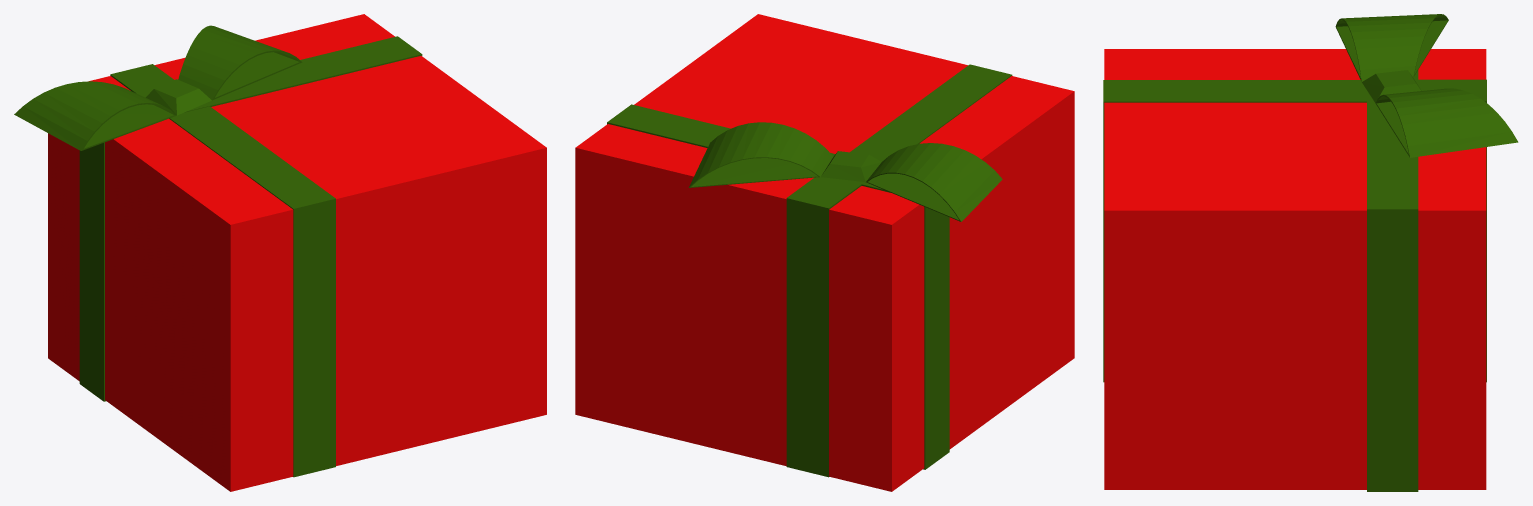
The model's file is Prop_Christmas_Present_Red_02.FBX.
3 views of the same model, side by side, from view 1: azimuth 30°, elevation 25°; view 2: azimuth 150°, elevation 25°; view 3: azimuth 270°, elevation 25° (orthographic). The views are drawn at different scales.
Visible parts, largest first — view 1: Prop_Christmas_Present_Red_02; view 2: Prop_Christmas_Present_Red_02; view 3: Prop_Christmas_Present_Red_02.
Part boxes in pixels (<box>): Prop_Christmas_Present_Red_02: <box>14,14,546,491</box>; Prop_Christmas_Present_Red_02: <box>575,14,1074,491</box>; Prop_Christmas_Present_Red_02: <box>1103,14,1518,491</box>.
Size of the model in its own units: 387 by 298 by 360.
